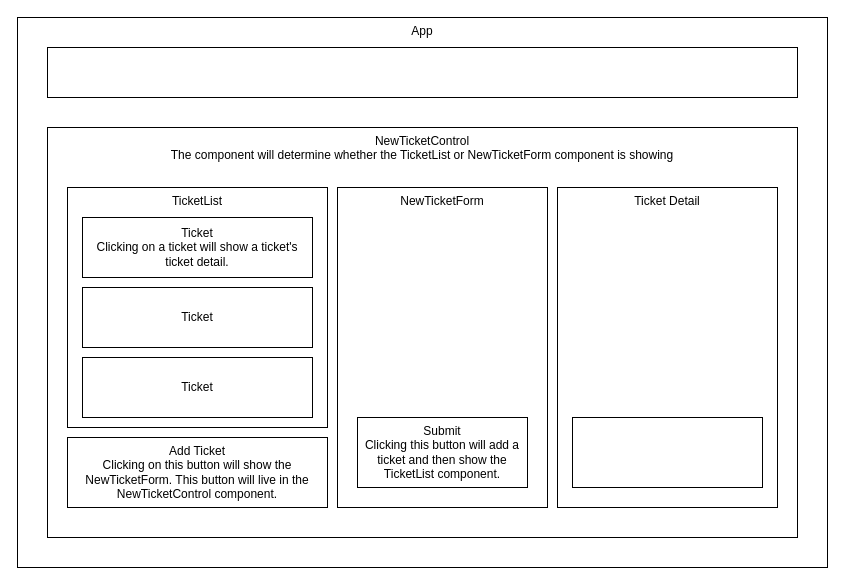
The diagram is 845 pixels wide and 585 high, and some of its shapes have lost their labels. Each missing label, with the centre of its shape:
"Header" goes at [422,72].
"Update/Delete We will eventually add Update/Delete functionality" goes at [667,452].
